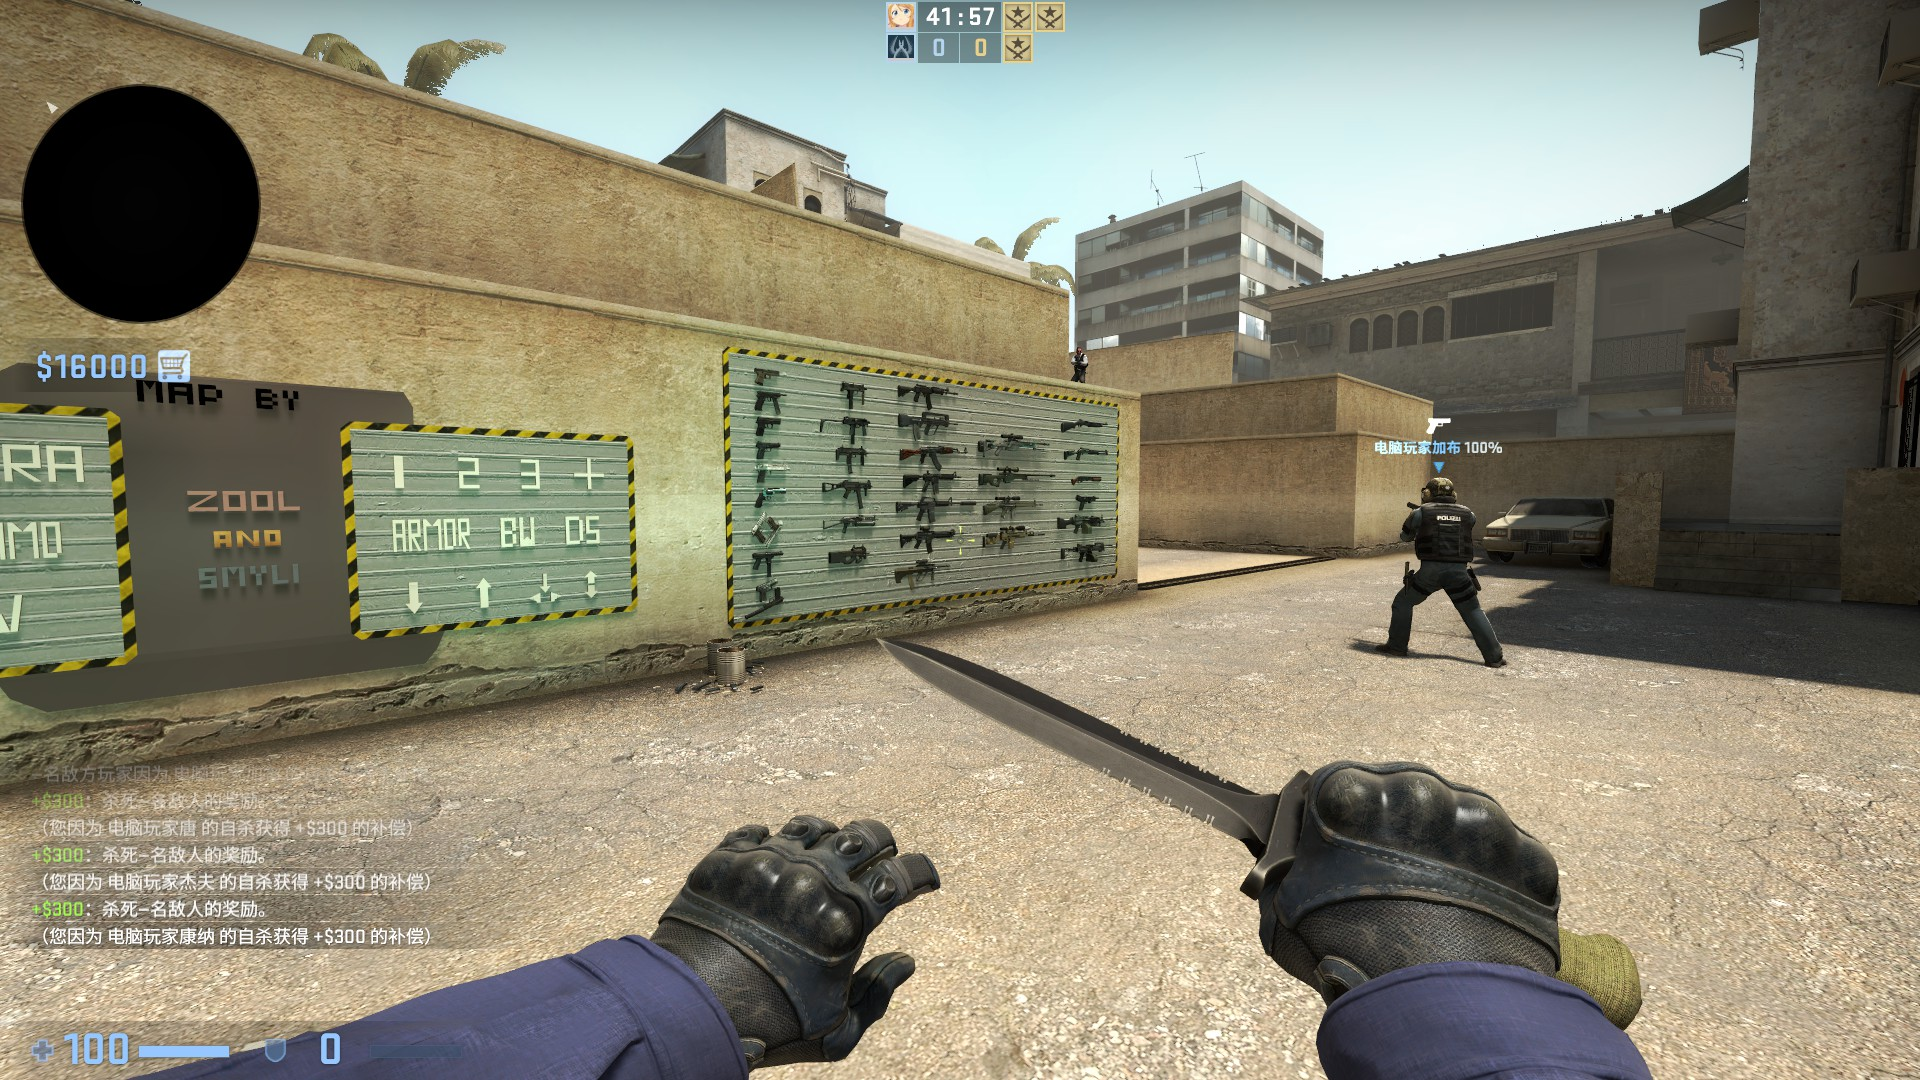head: (1421, 476, 1458, 506)
